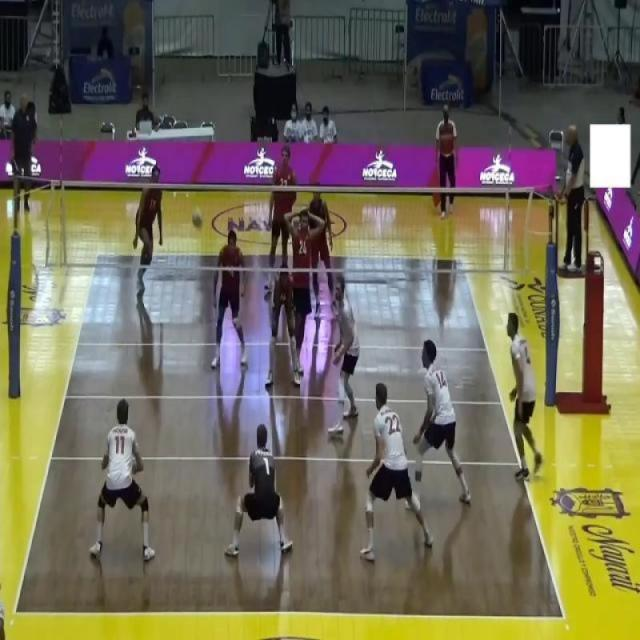volleyball: (191, 208, 203, 230)
